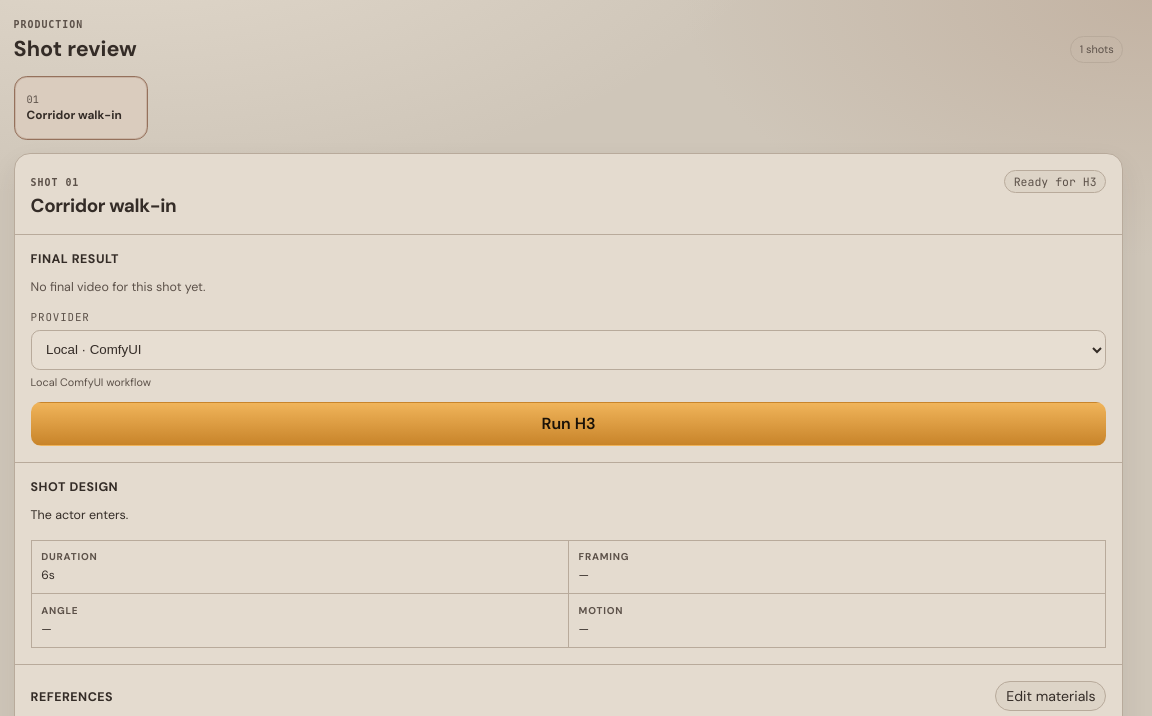
Test: ProductionPage prompt refresh › refreshes mobile Production references after saving material changes
The image size is (1152, 716).
Click the button "Edit materials" at x=1051, y=696, box [995,681,1106,712]
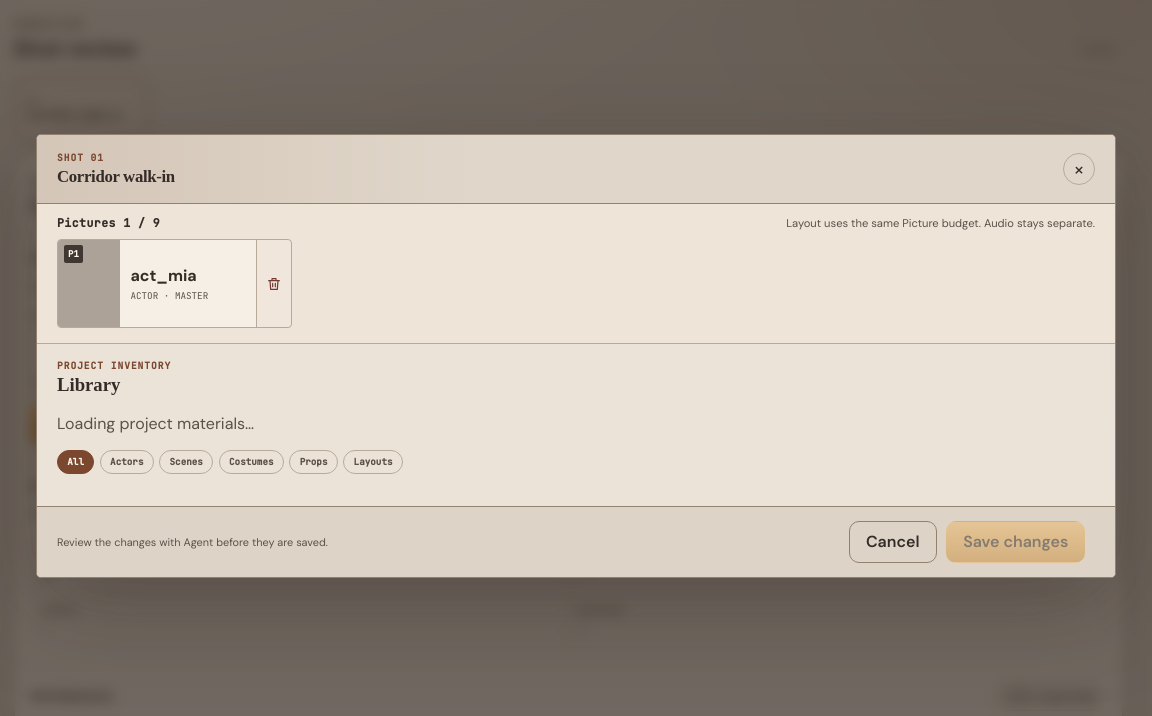
Click the button named "Remove Picture 1 · act_mia" at x=274, y=284, box [256,240,291,328]
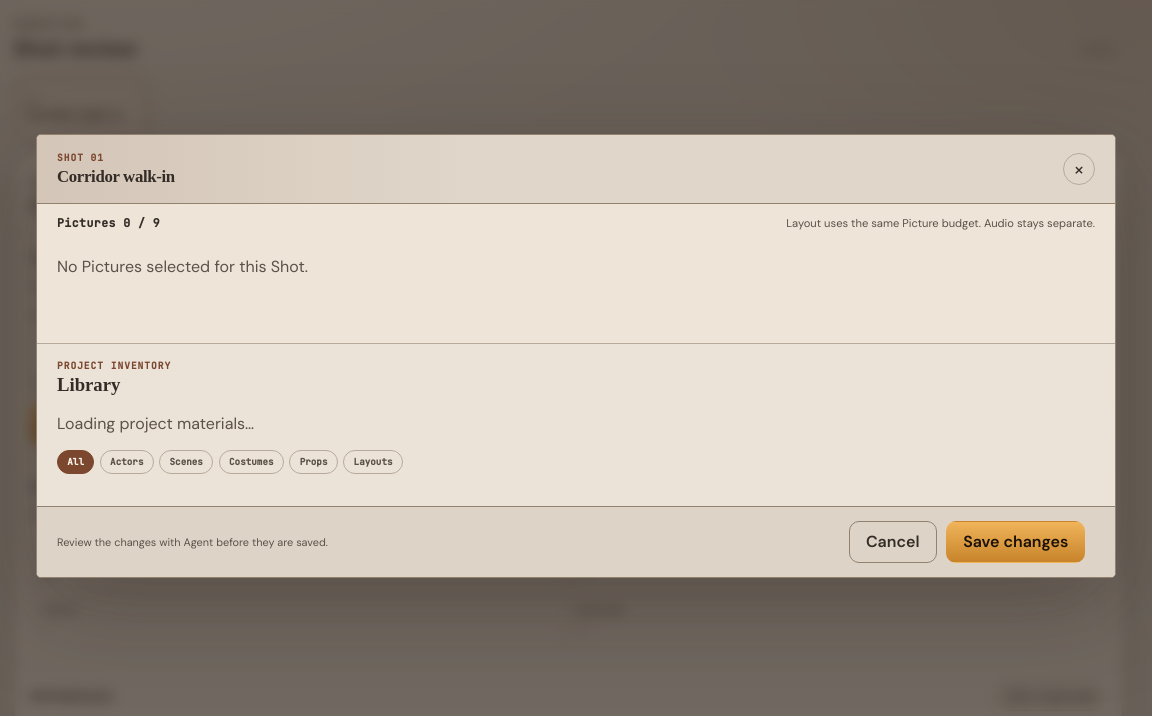
Click the button "Save changes" at x=1016, y=542, box [946,521,1085,563]
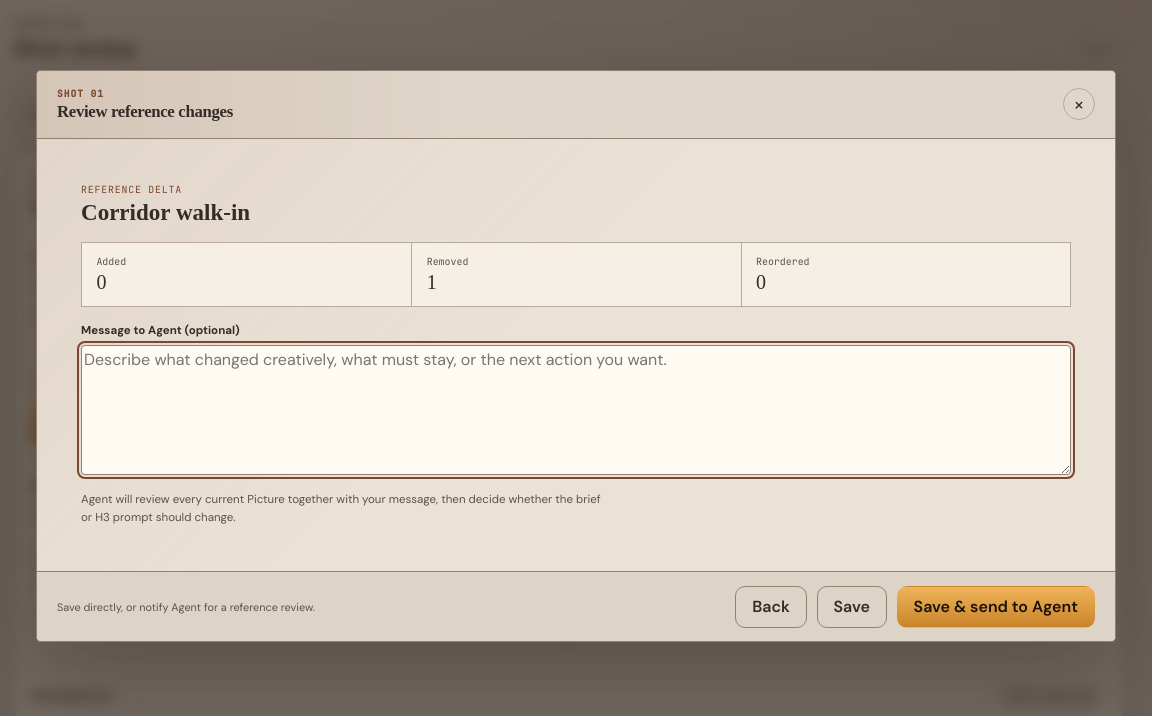
Replace the text in the text box labelled "Message to Agent (optional)" with "Keep the corridor geography unchanged." at x=576, y=410, box [81,345,1071,475]
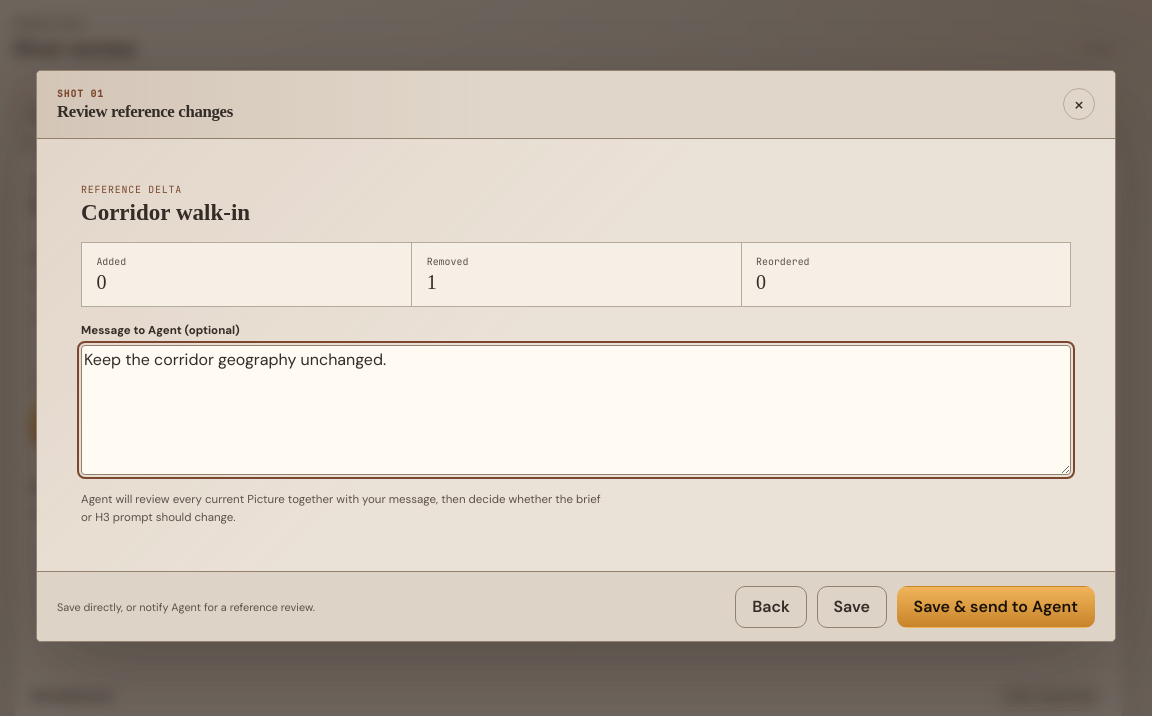
Click the button "Save & send to Agent" at x=996, y=607, box [897,586,1095,628]
(page scrolled)
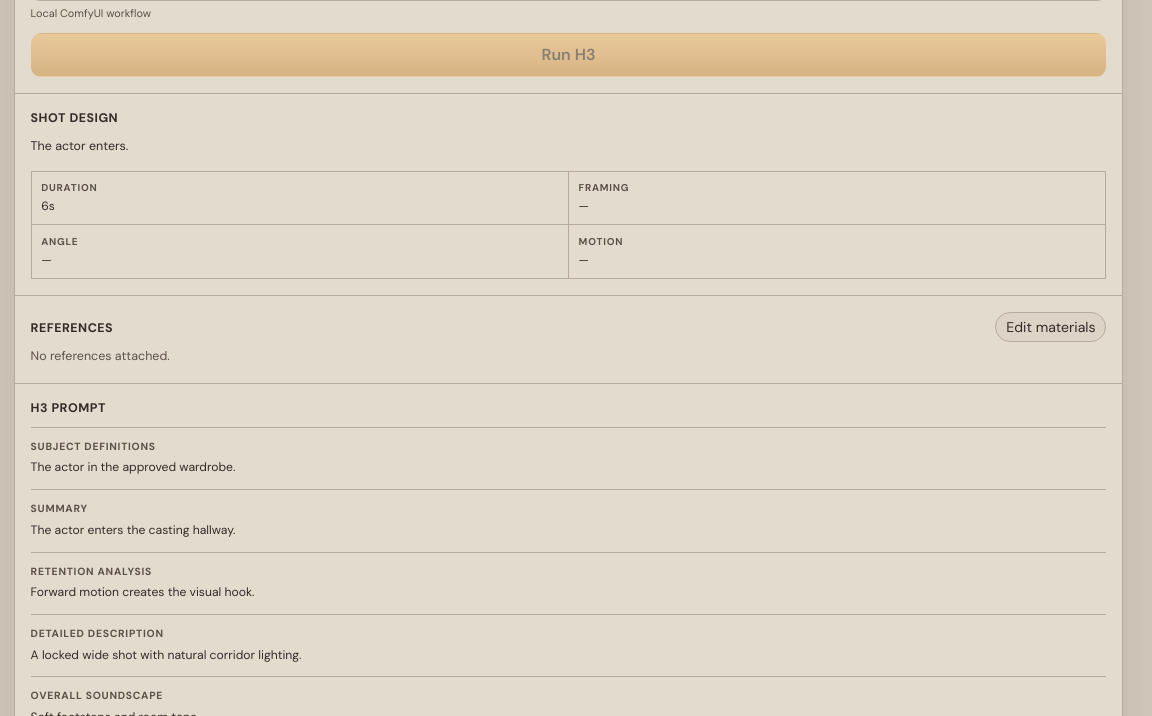
Check: the text "No references attached." is shown, box [31,348,170,364]
